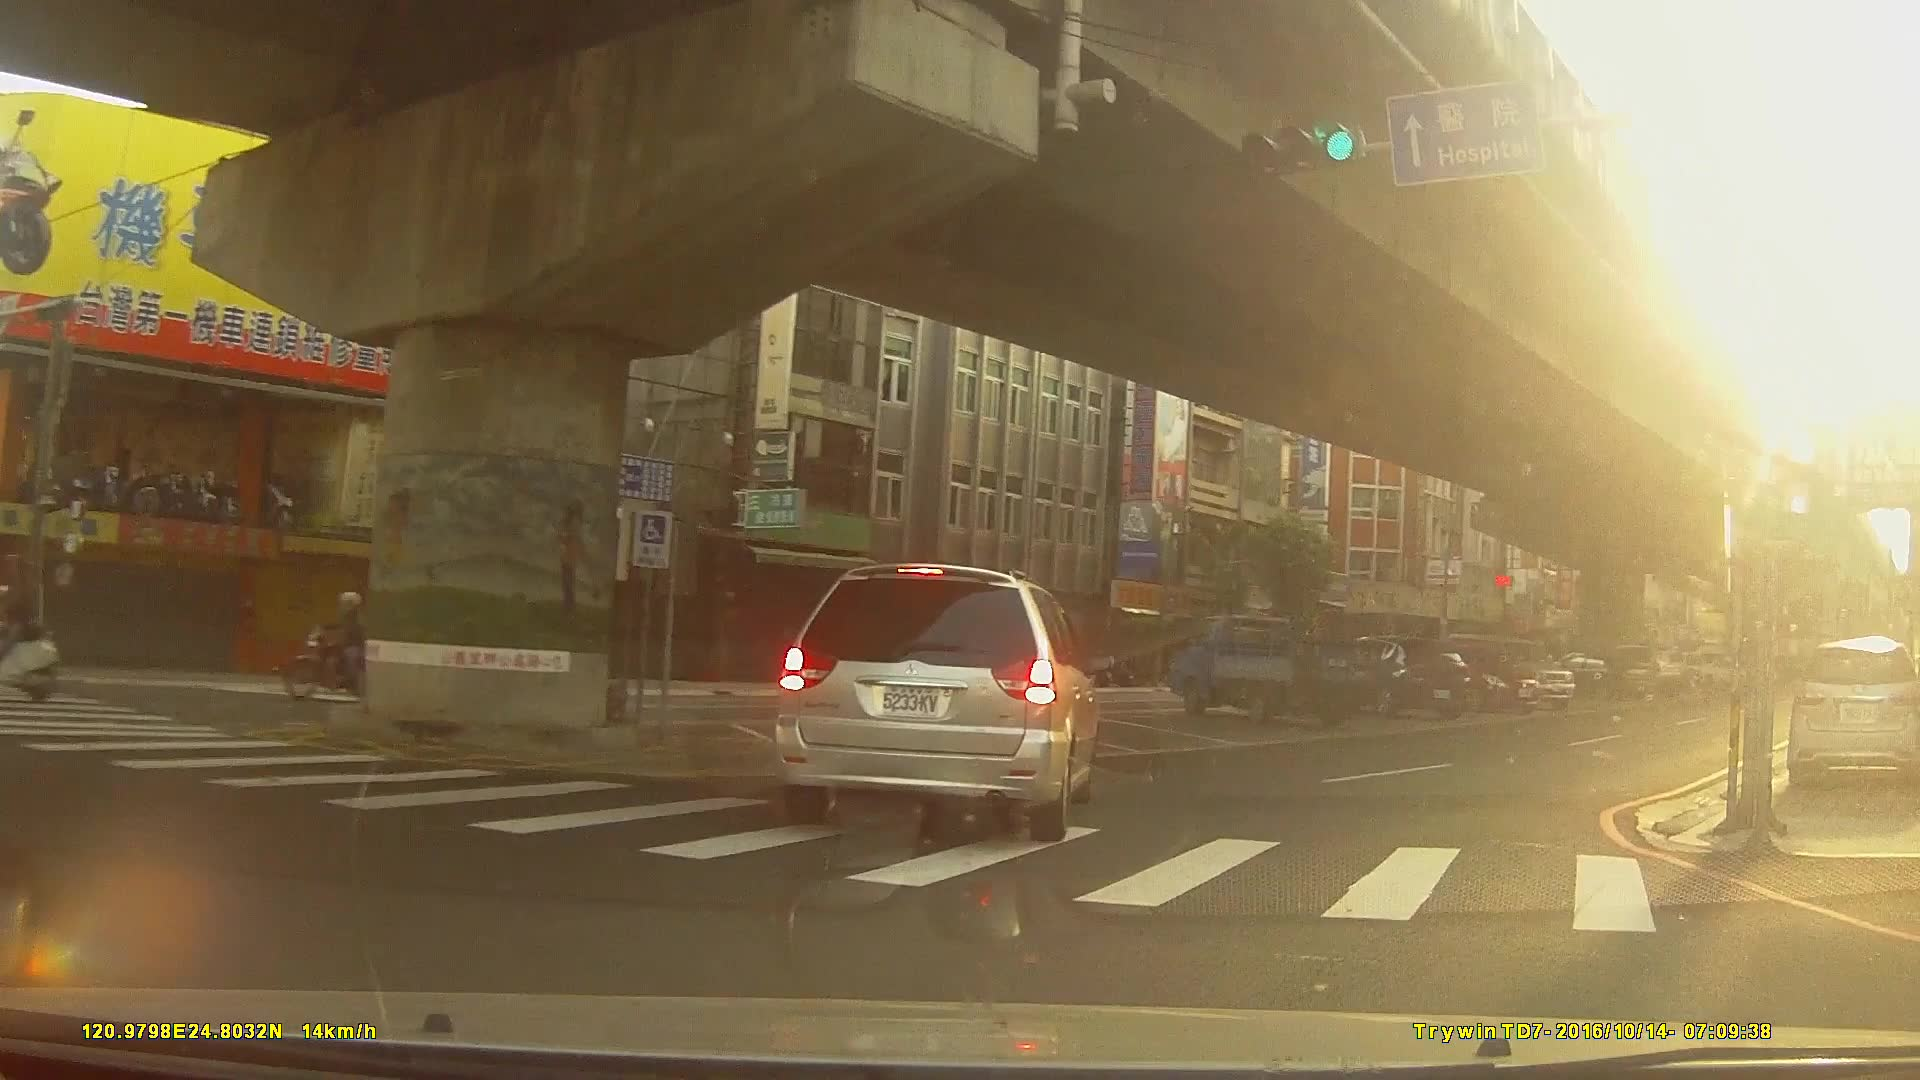rider: (281, 591, 394, 705), (1, 565, 66, 705)
vehicle: (771, 560, 1100, 844), (1163, 611, 1379, 726), (1788, 636, 1916, 792), (1331, 632, 1471, 718), (1411, 641, 1543, 713), (1536, 655, 1626, 702)
